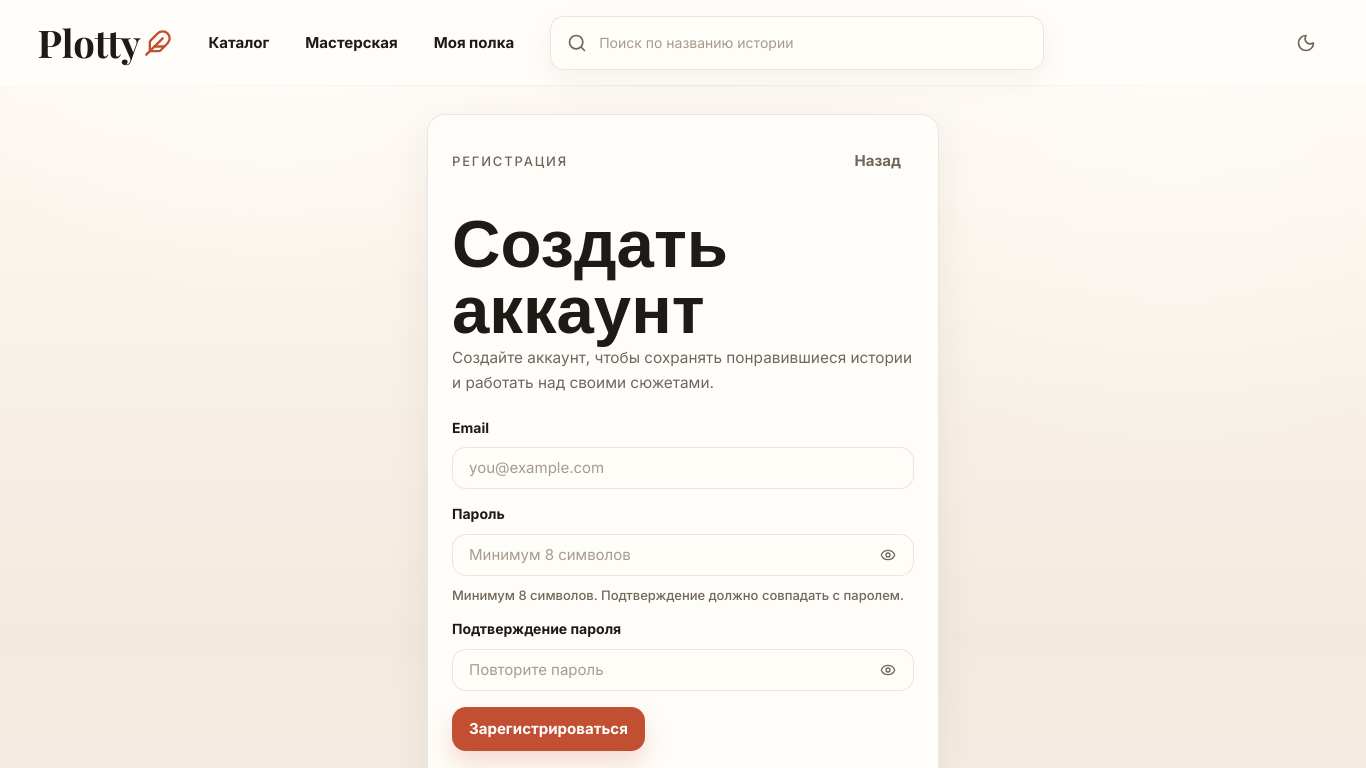
Test case: AuthScreen › shows friendly register copy for empty backend 400 responses
Check: the heading "Создать аккаунт" is shown, box [452, 194, 728, 350]
In the field labelled "Email": (683, 468) [452, 447, 914, 489], type "shaker@shaker.global.game"
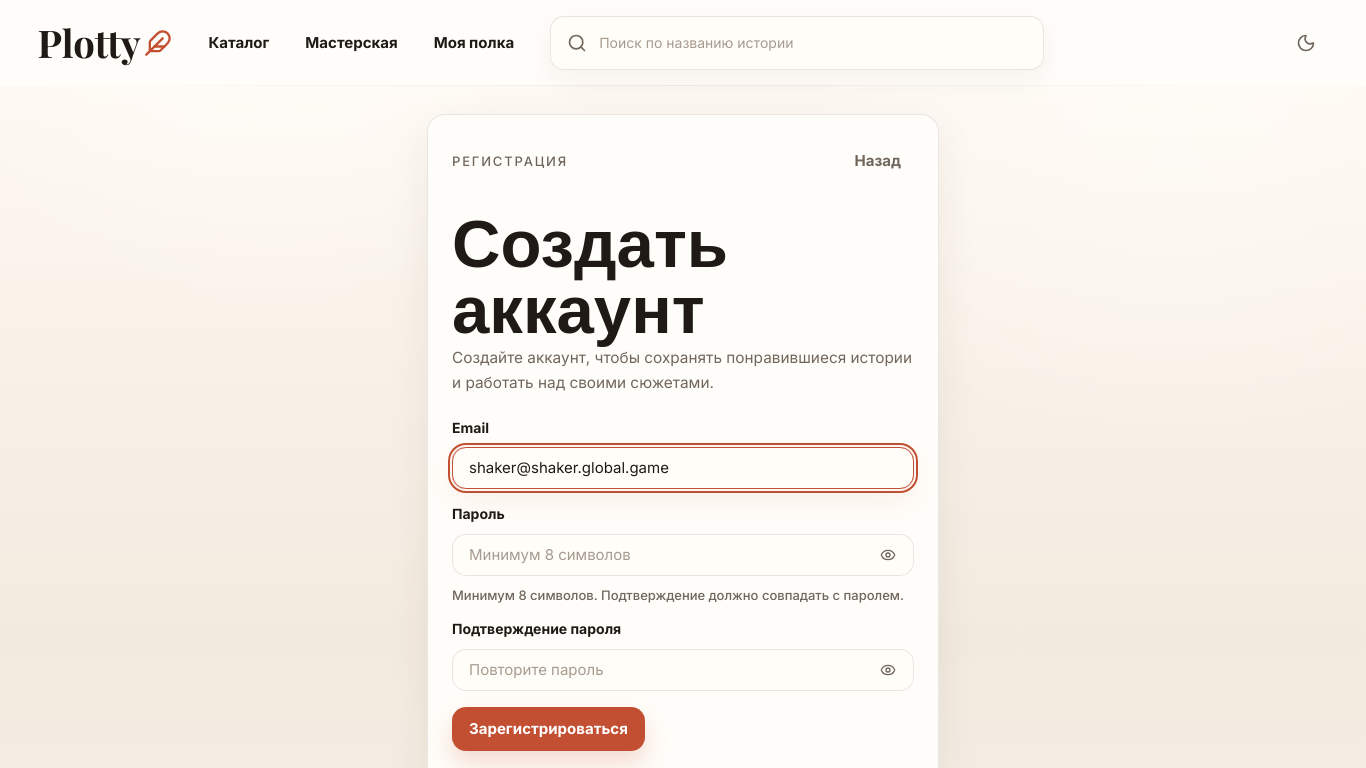
In the password field labelled "Пароль": (683, 555) [452, 534, 914, 576], type "password123"
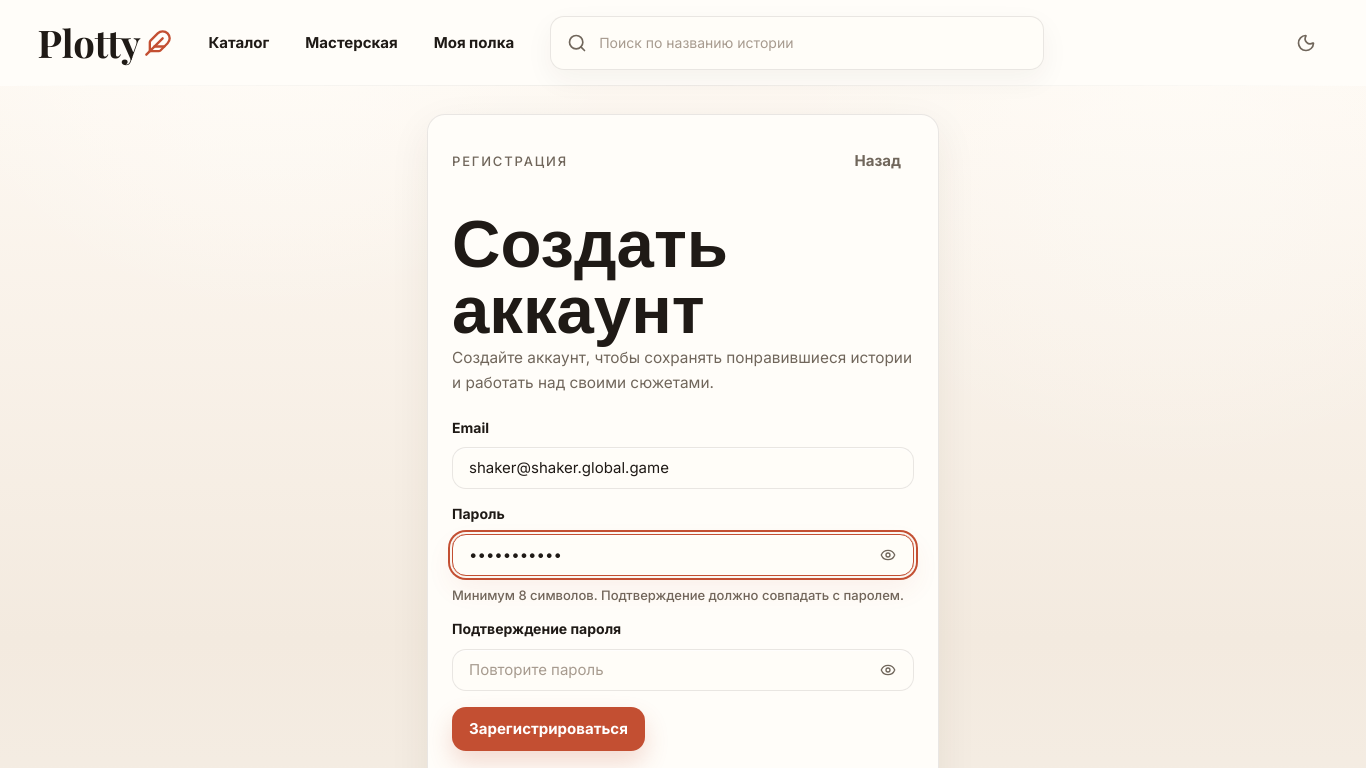
In the password field labelled "Подтверждение пароля": (683, 670) [452, 649, 914, 691], type "password123"
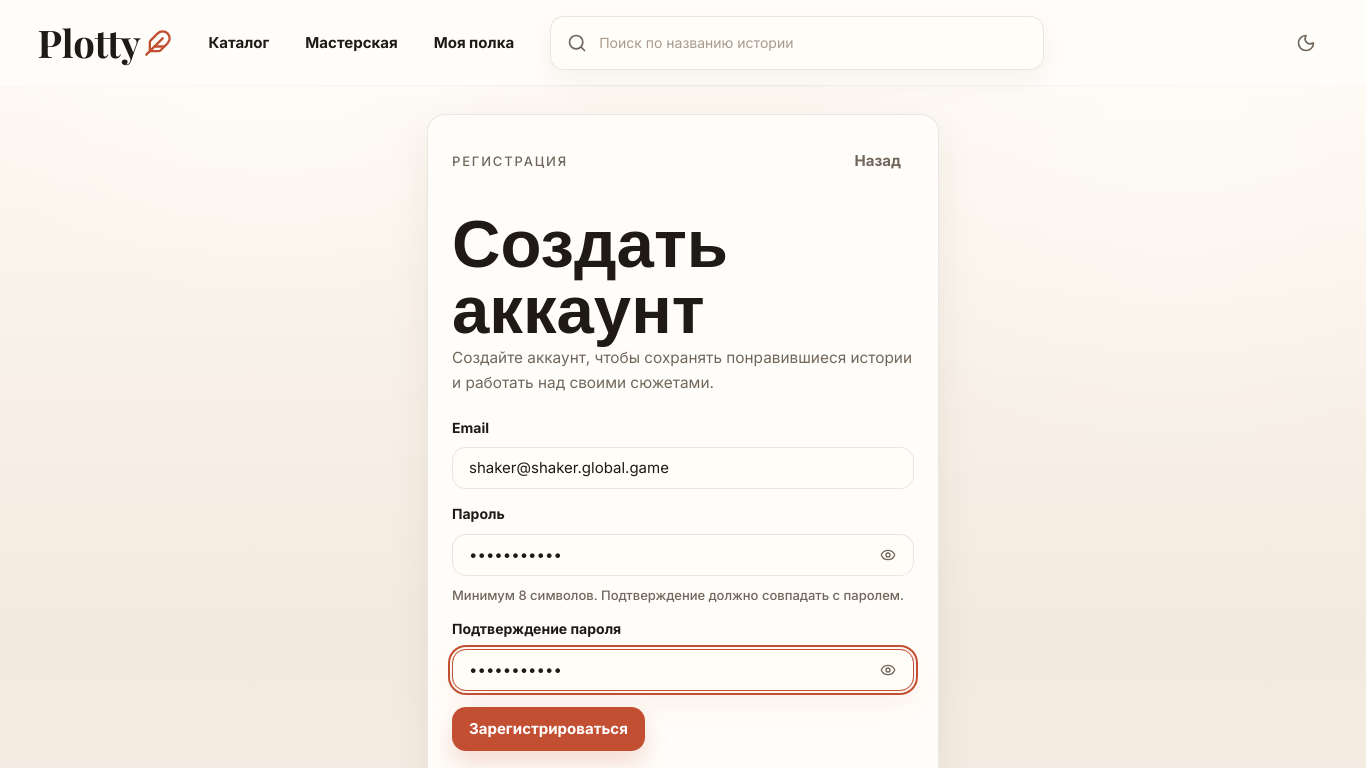
Click the button "Зарегистрироваться": (548, 729) [452, 707, 645, 751]
(page scrolled)
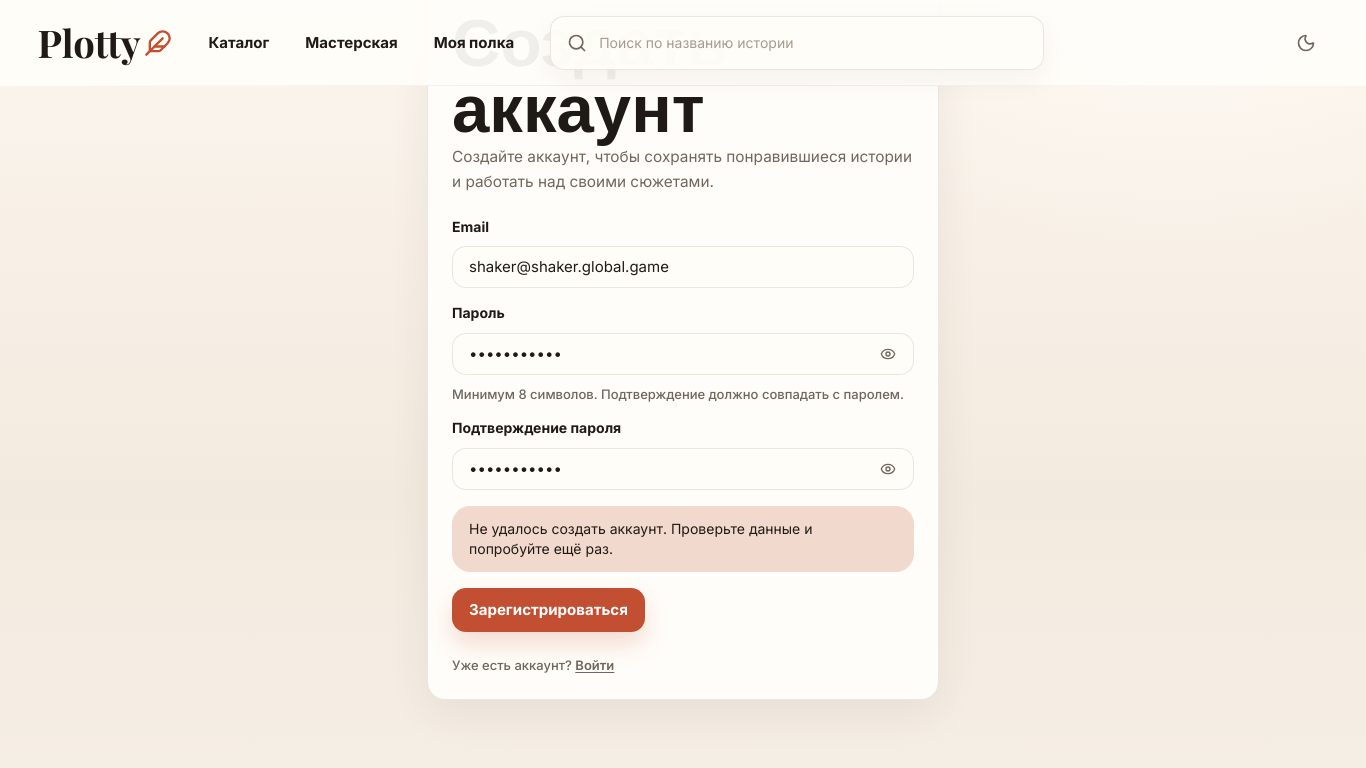
Check: the text "Не удалось создать аккаунт. Проверьте данные и попробуйте ещё раз." is shown, box [452, 506, 914, 572]
